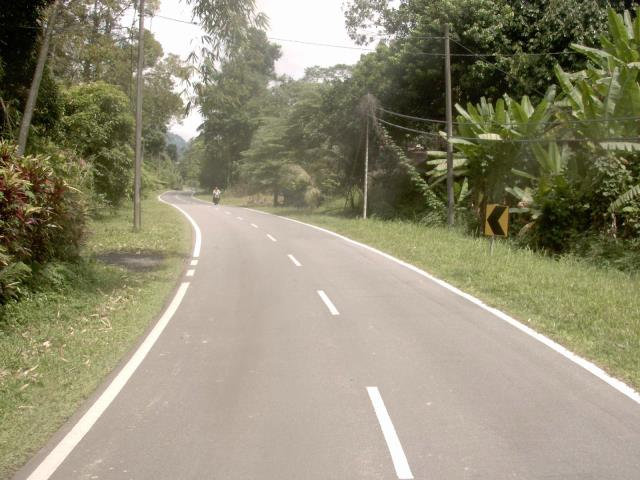traffic_sign: (478, 194, 515, 246)
